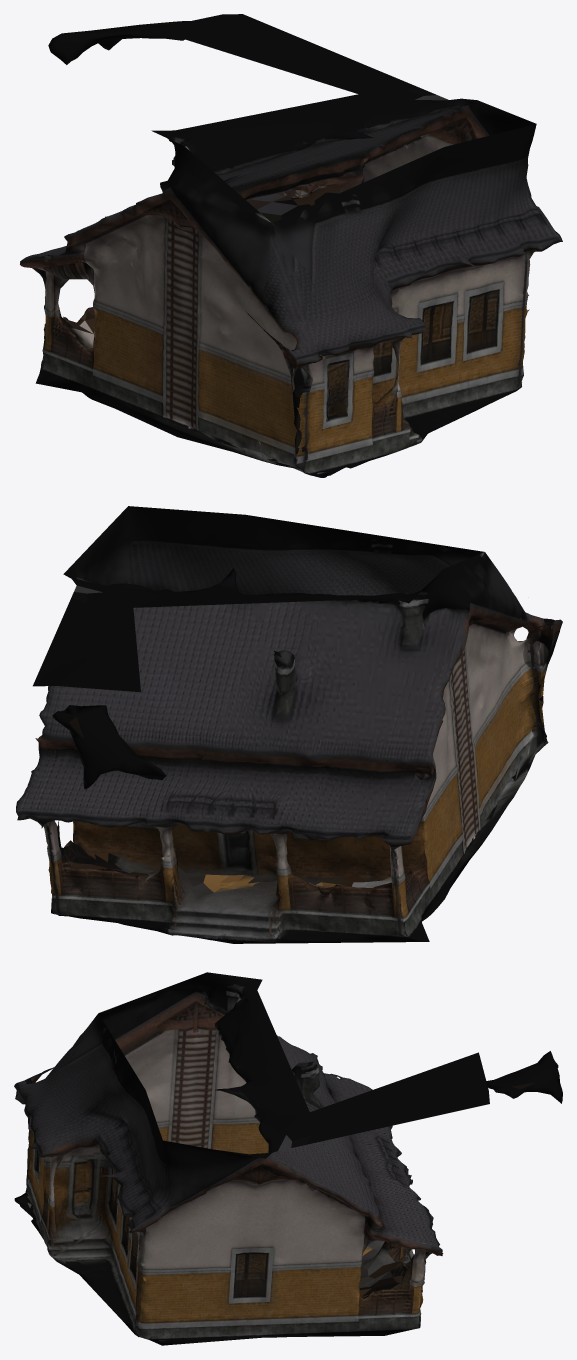
The model's file is extra_dark.obj.
3 renders of one model, top to bottom at view 1: azimuth 30°, elevation 25°; view 2: azimuth 150°, elevation 25°; view 3: azimuth 270°, elevation 25°, orthographic. The views are drawn at different scales.
Size of the model in its own units: 11.94 by 8.74 by 16.56.
1 material, 1 textured.
